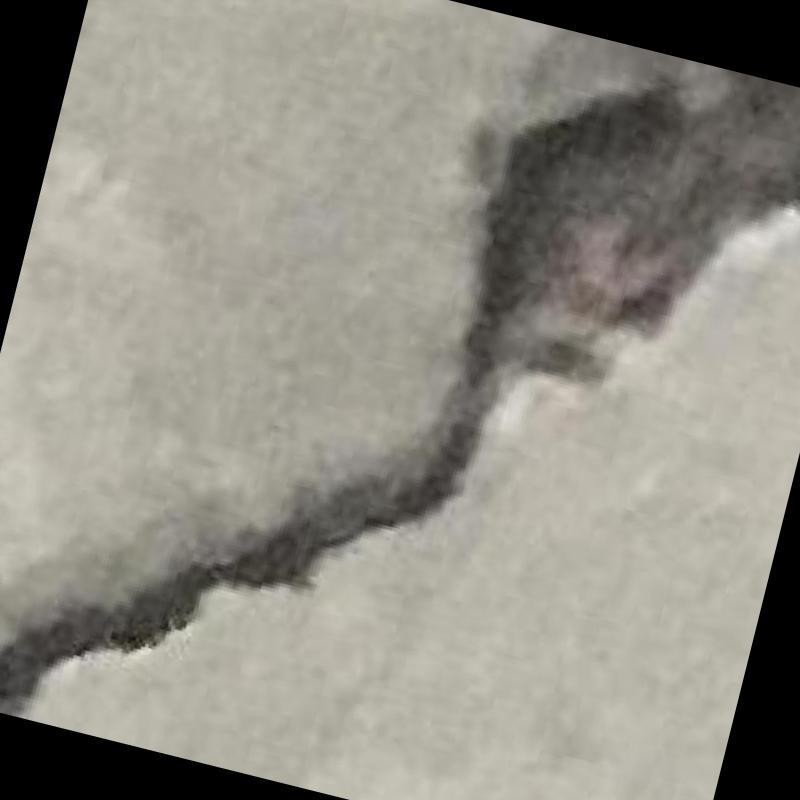pothole: (0, 60, 800, 714)
